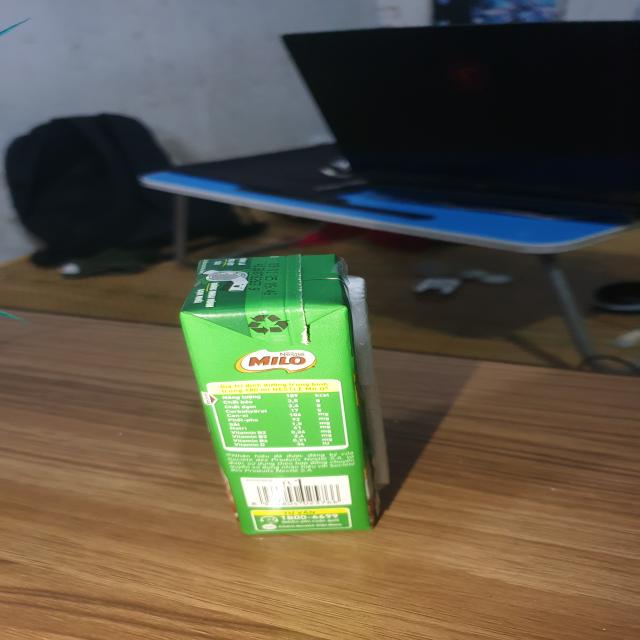Milo: (182, 250, 393, 541)
